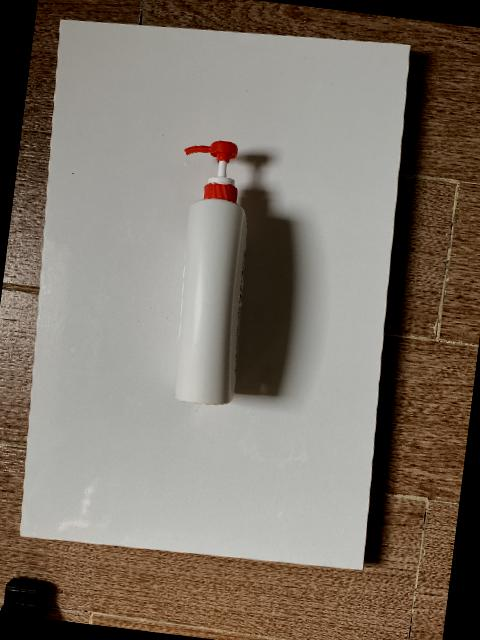life-buoy: (172, 141, 248, 407)
